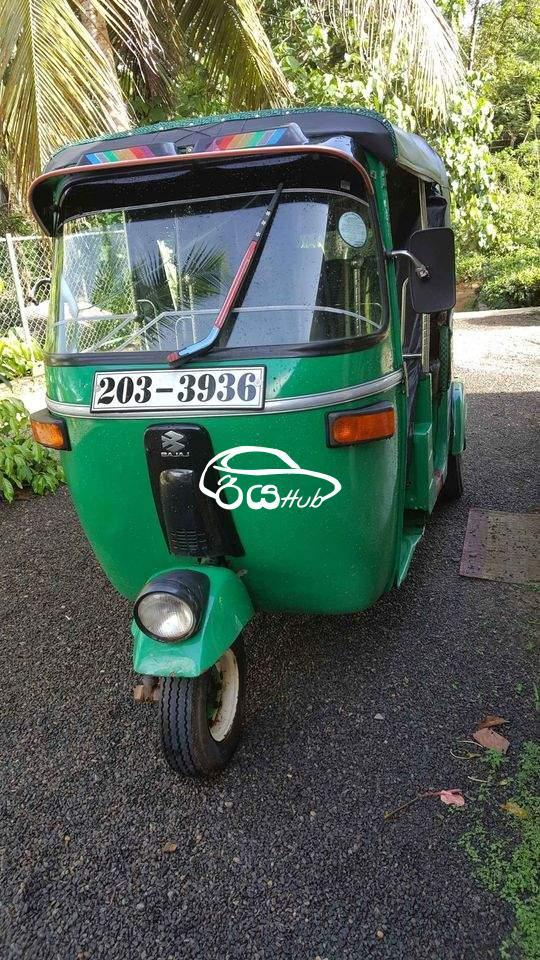threewheel: (25, 105, 467, 778)
